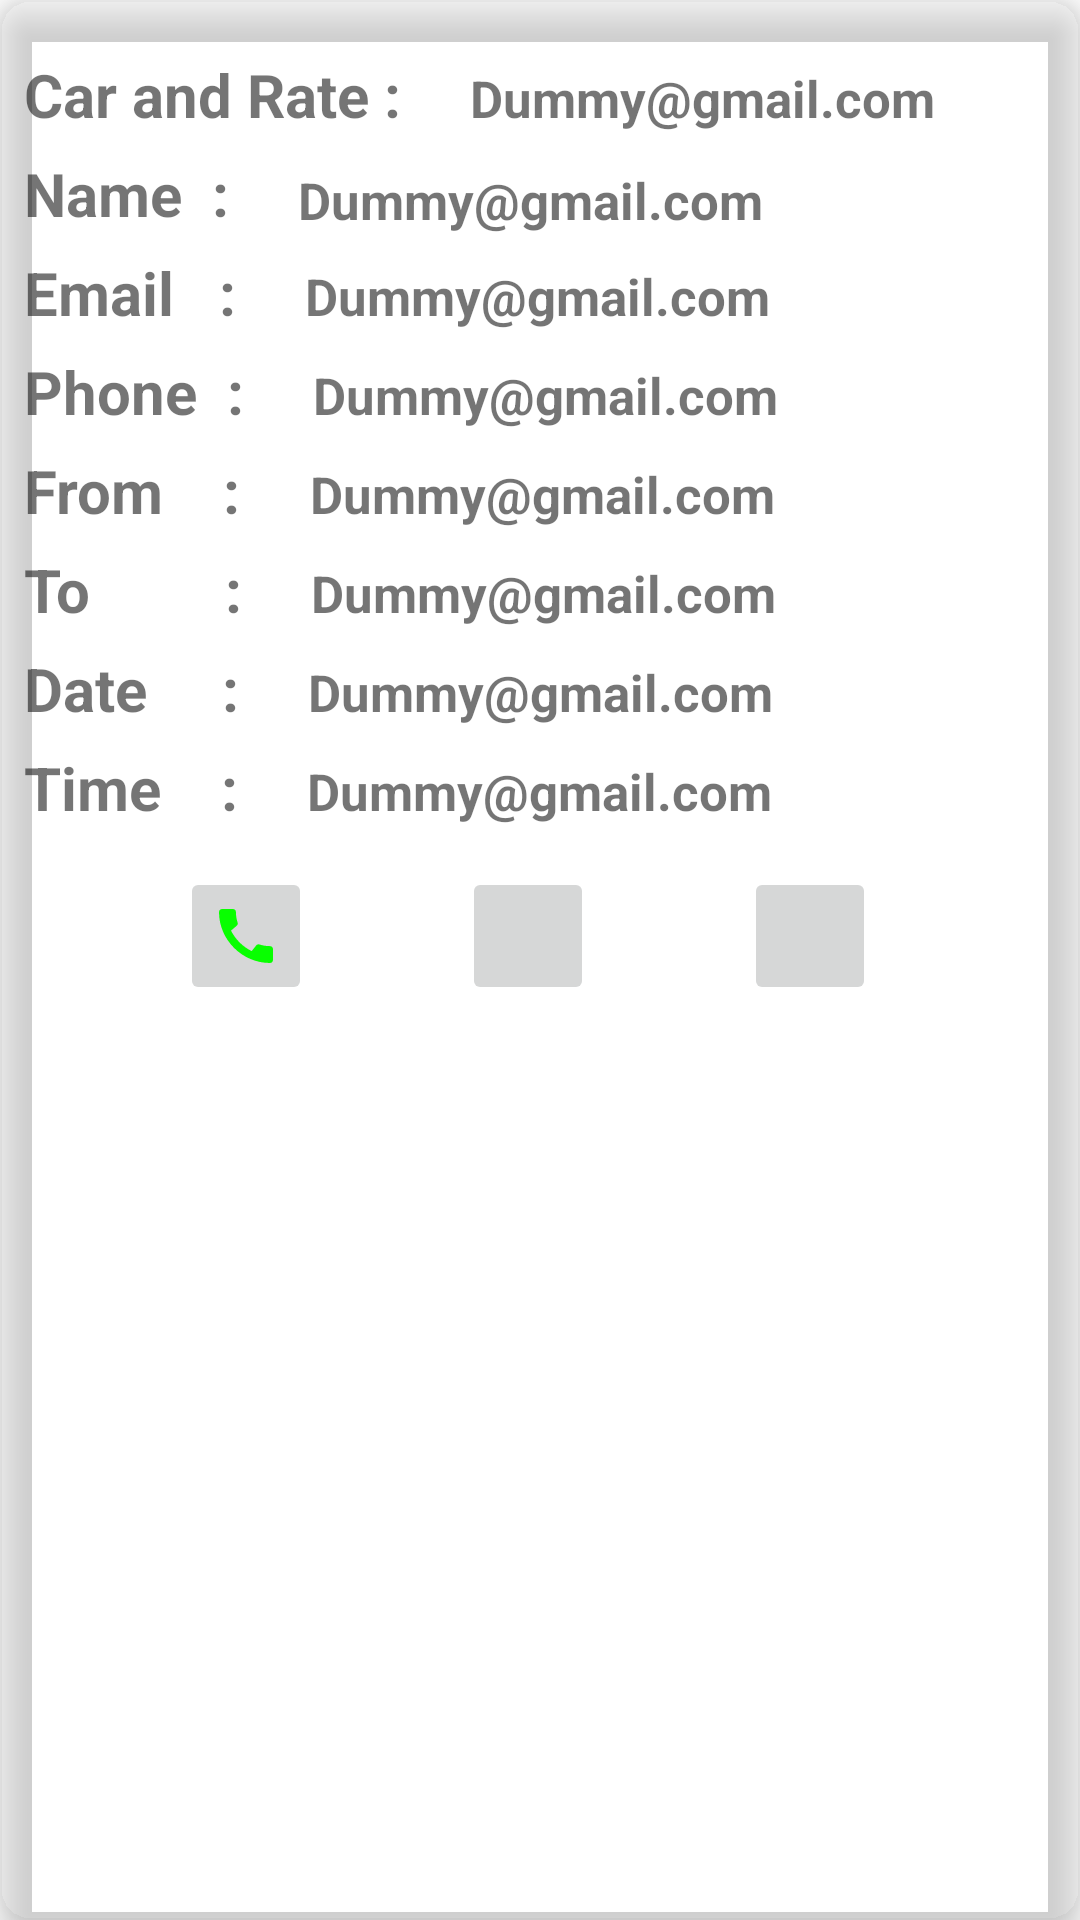

Screen size 1080×1920. Icon name, then its center in pixels as point (x, y):
call: point (246, 936)
